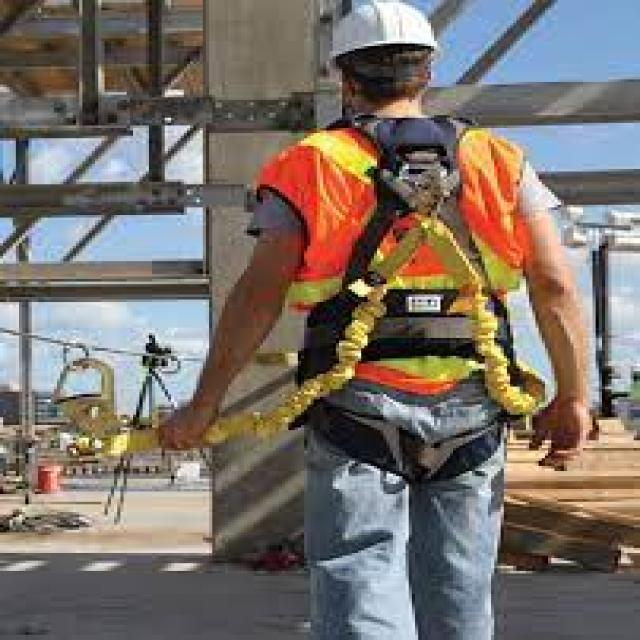harness: (44, 158, 552, 452)
